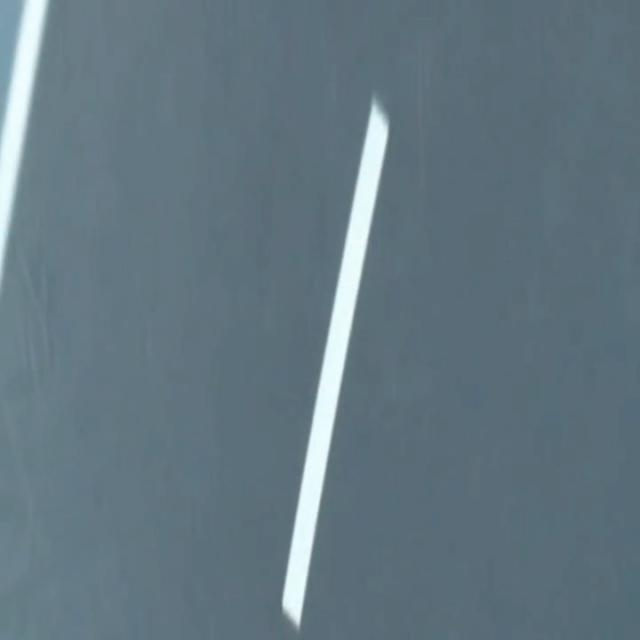center: (283, 99, 388, 626)
left: (0, 0, 48, 289)
